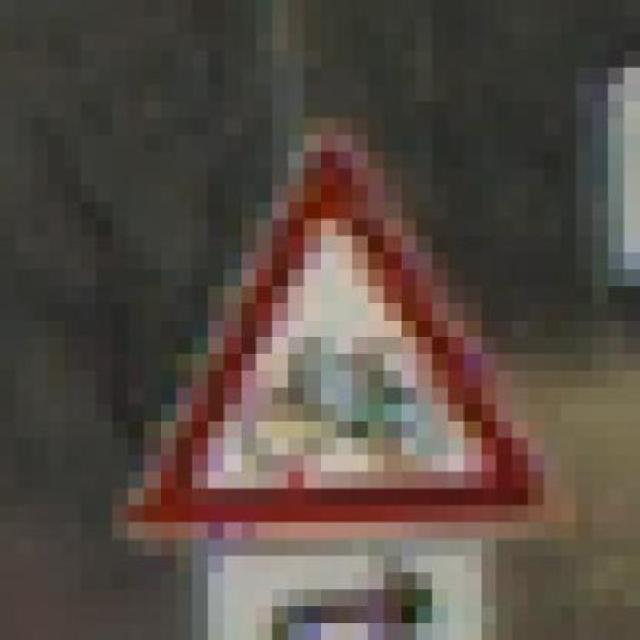CYCLE ROUTE AHEAD WARNING: (112, 101, 560, 556)
